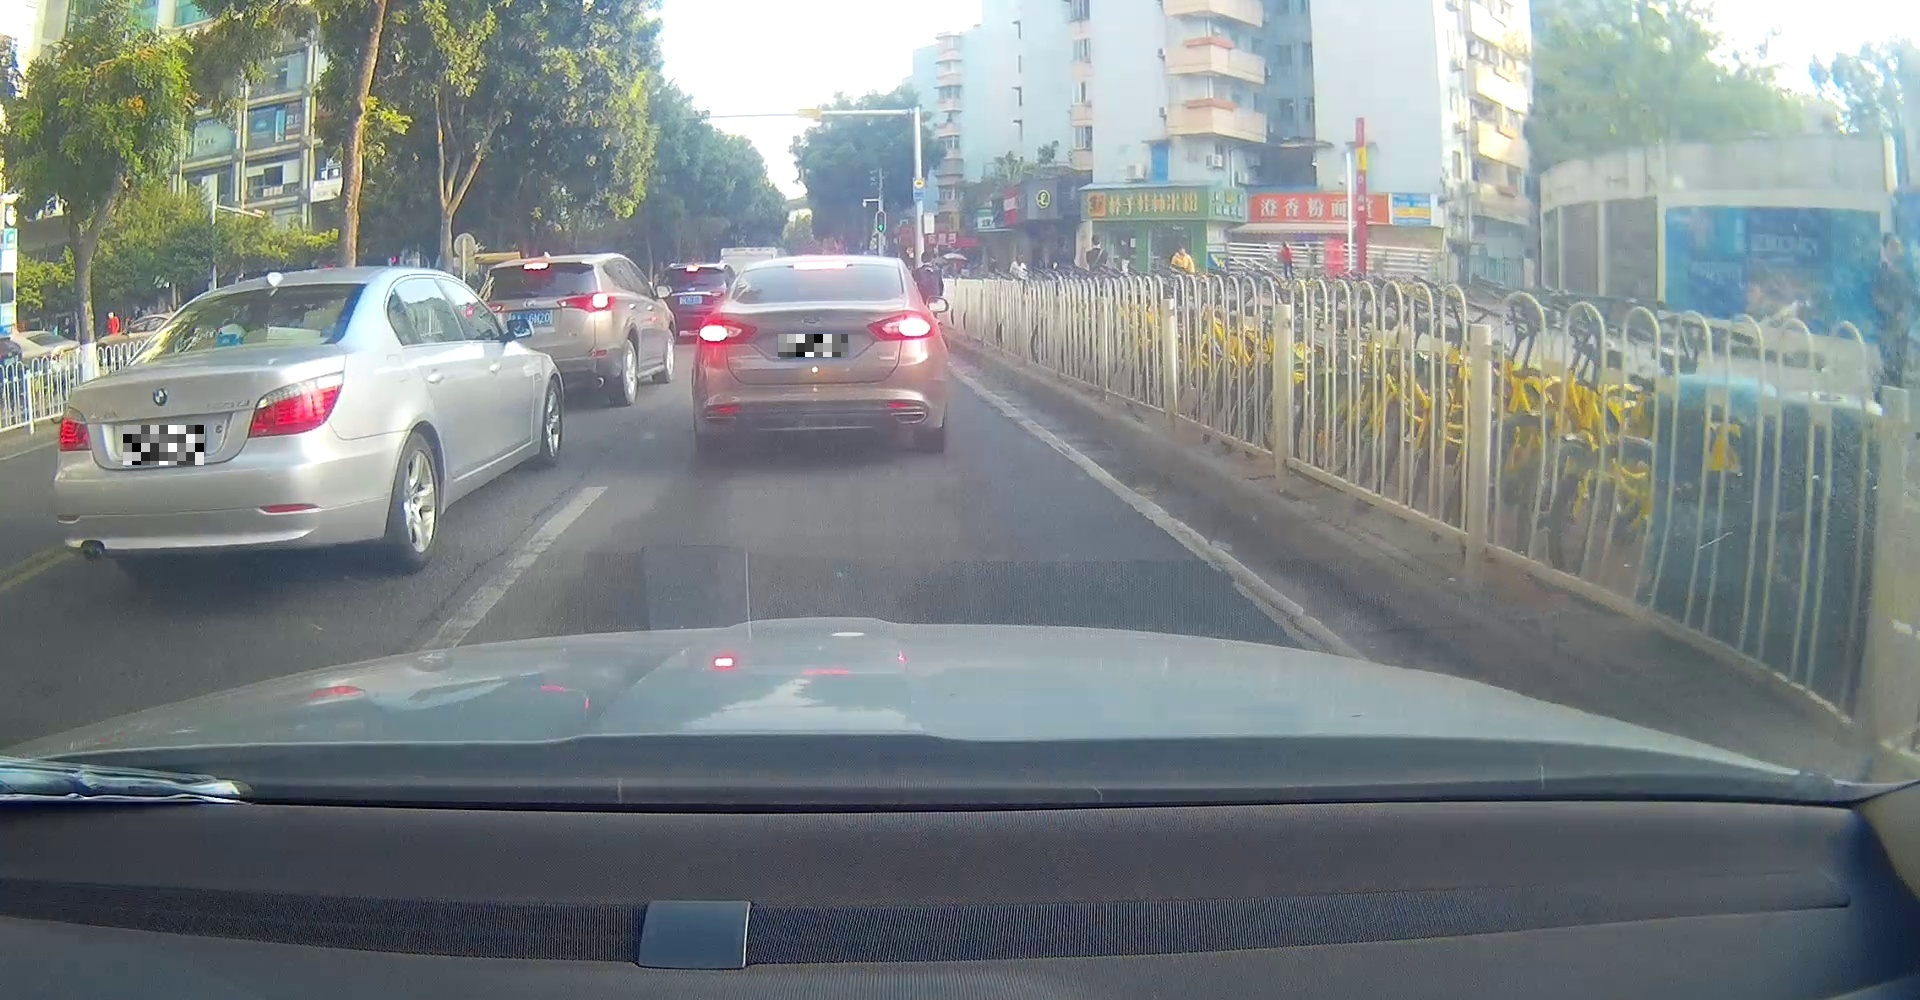L_light: (695, 319, 757, 344), (57, 406, 91, 452)
R_light: (246, 371, 344, 439), (866, 312, 937, 341)
T_light: (794, 261, 847, 270), (251, 287, 297, 297)
day-brake: (691, 254, 949, 453)
day-no: (53, 266, 370, 579)
plate_1: (123, 425, 204, 464)
plate_2: (778, 334, 848, 357)
